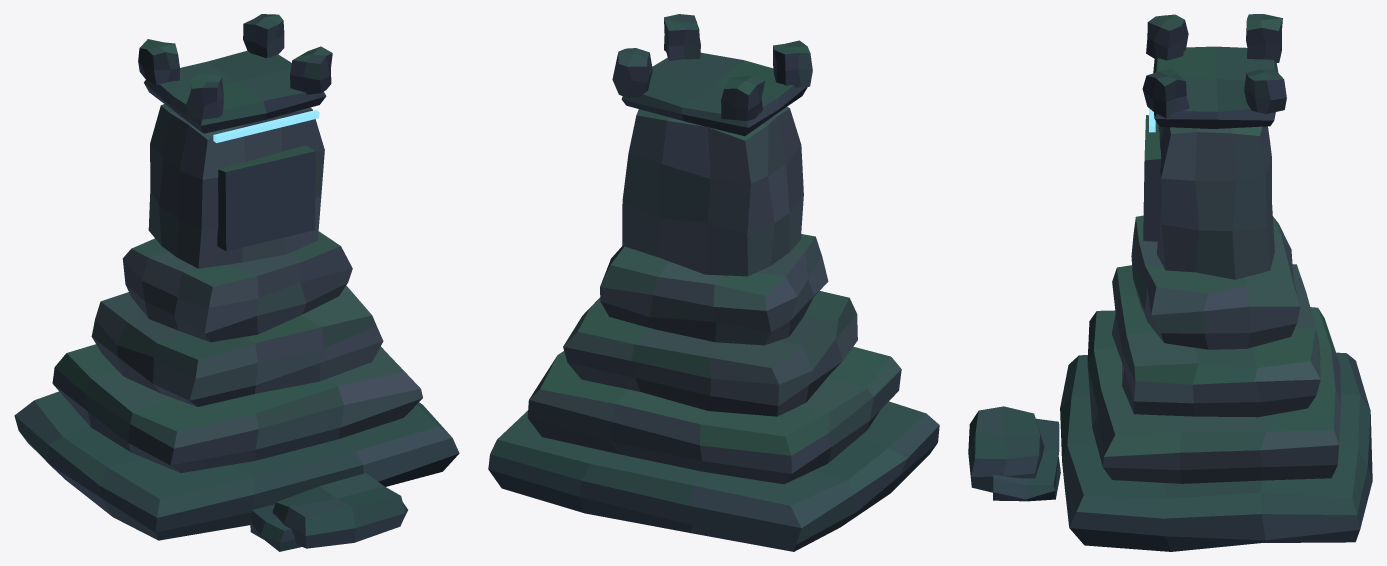
The model's file is skill_rock_2.glb.
3 renders of one model, left to right at view 1: azimuth 30°, elevation 25°; view 2: azimuth 150°, elevation 25°; view 3: azimuth 270°, elevation 25°, orthographic. The views are drawn at different scales.
Visible parts, largest first — view 1: skill_rock_2; view 2: skill_rock_2; view 3: skill_rock_2.
Part boxes in pixels (x1,y1,x2,y2): skill_rock_2: [14, 14, 459, 551]; skill_rock_2: [488, 14, 939, 551]; skill_rock_2: [968, 14, 1372, 551].
Bounding box in the file's own units: 3.06 × 3.74 × 3.17.
